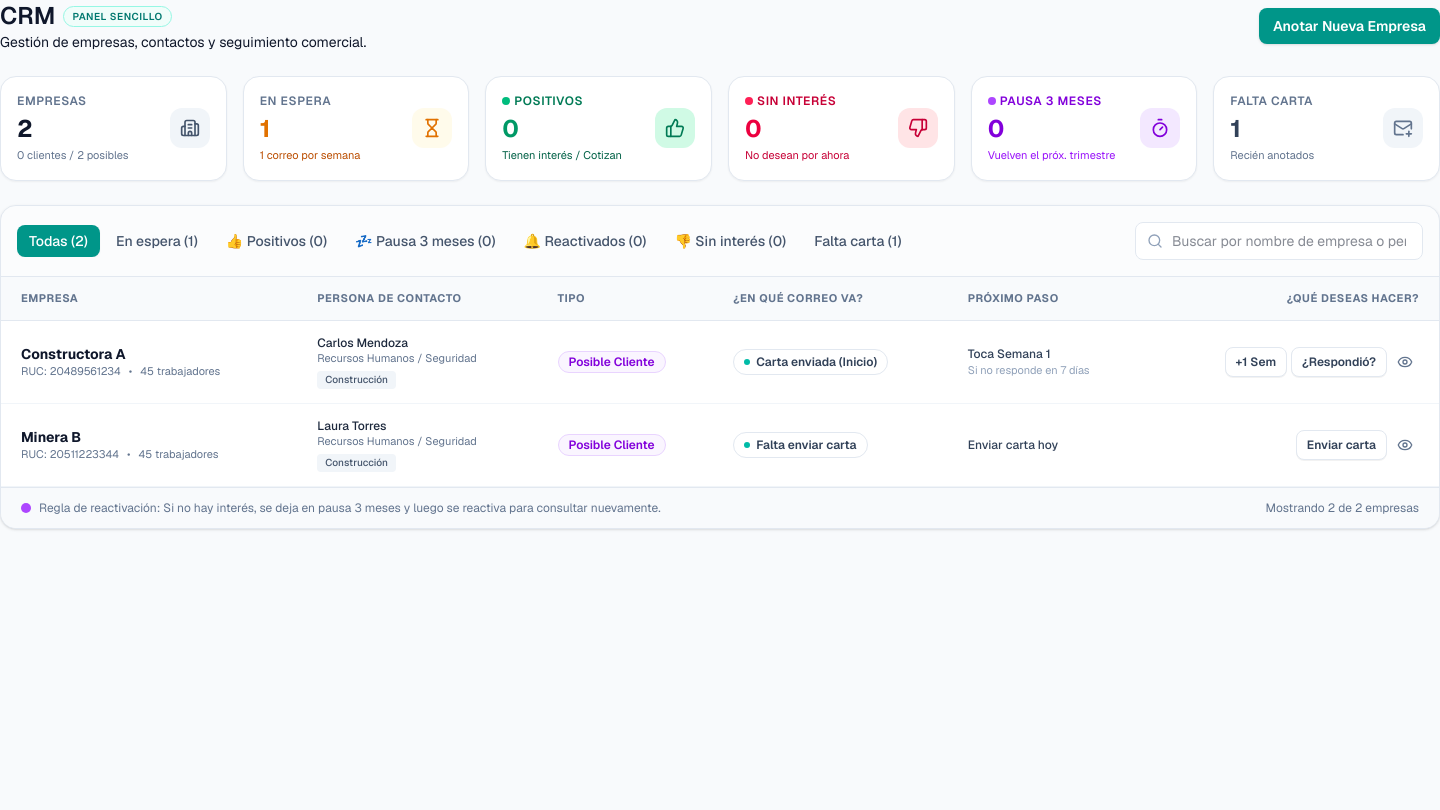
Test: PanelCrm — costuras de modales 9.x (batch 14) › opens the ficha modal from the empresa-name affordance (replaces the interim navigation)
The image size is (1440, 810).
Expected: the table is shown, [1, 276, 1439, 487]
Click the button "Constructora A" at (73, 354), box [21, 344, 126, 364]
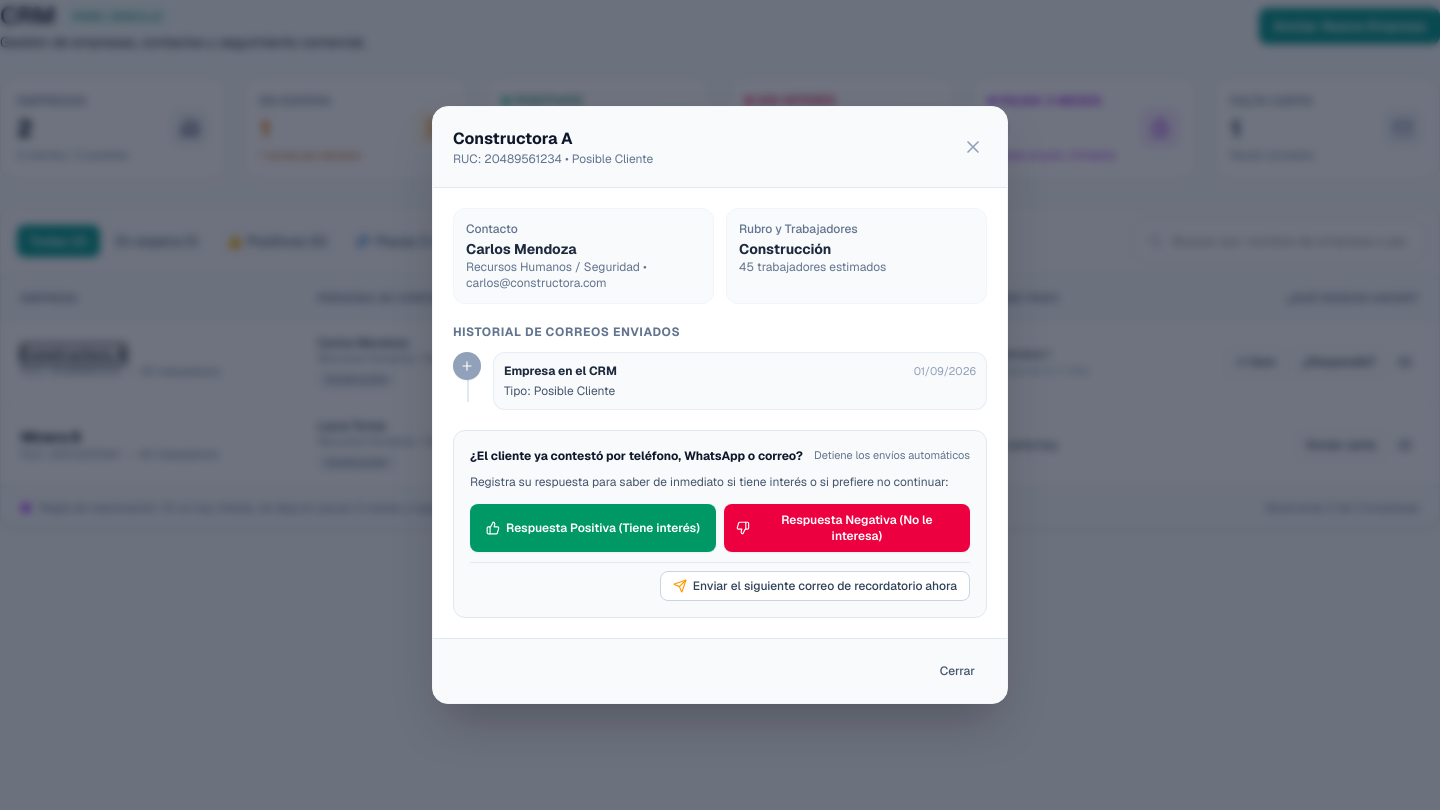
Expected: the dialog named "Ficha de Constructora A" is shown, [432, 106, 1008, 704]
Expected: the text "Empresa en el CRM" is shown, [504, 363, 617, 379]
